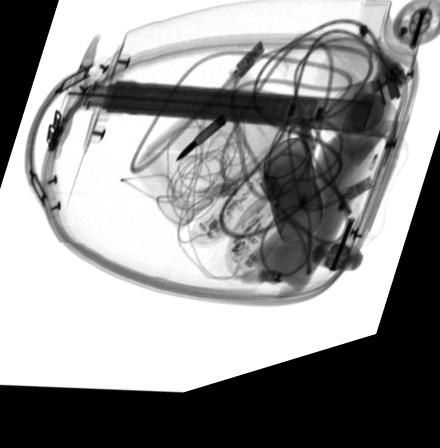Bullet: (174, 128, 226, 173)
